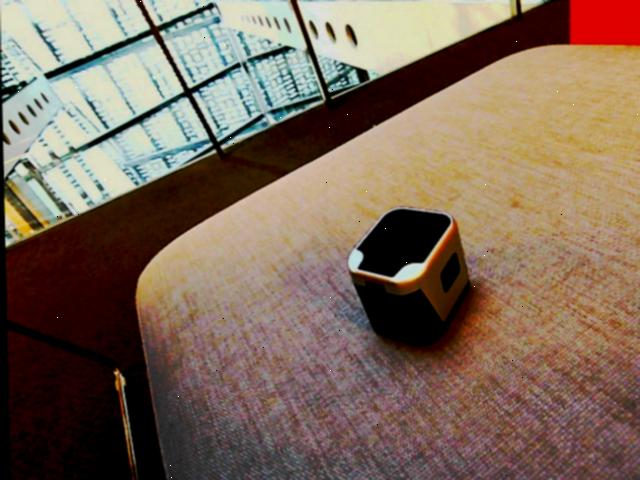adapter: (344, 206, 470, 344)
